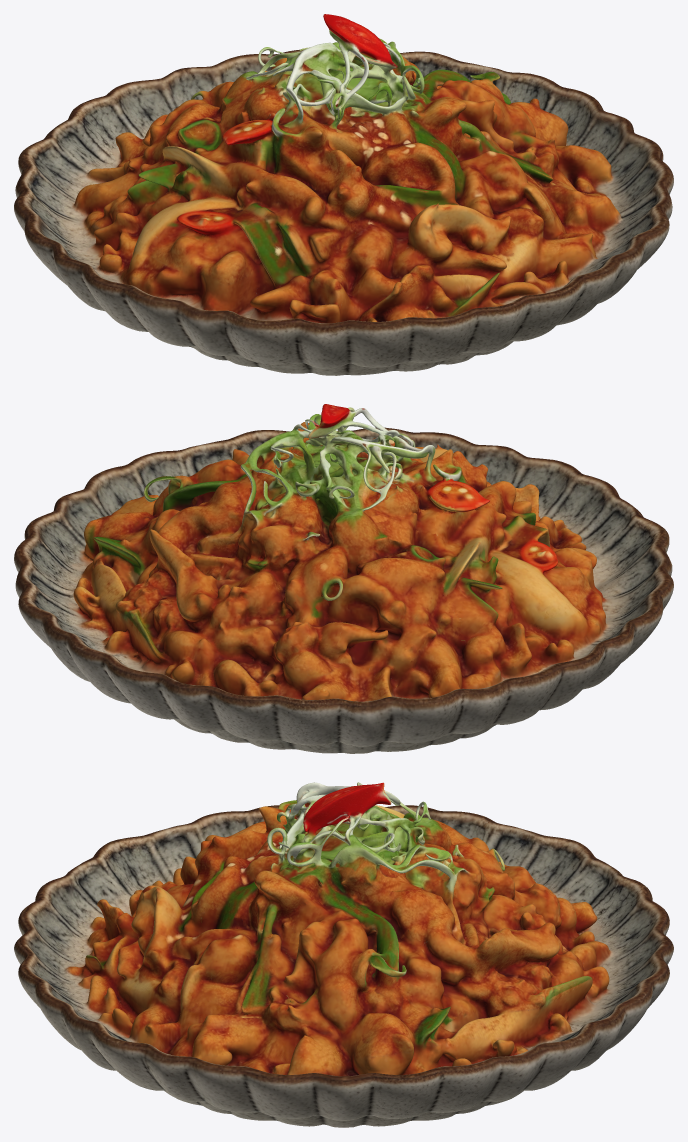
The picture shows the model from 3 angles, top to bottom: view 1: azimuth 30°, elevation 25°; view 2: azimuth 150°, elevation 25°; view 3: azimuth 270°, elevation 25°; orthographic projection.
Bounding box in the file's own units: 1.9 × 0.7958 × 1.9.
1 material, 1 textured.
